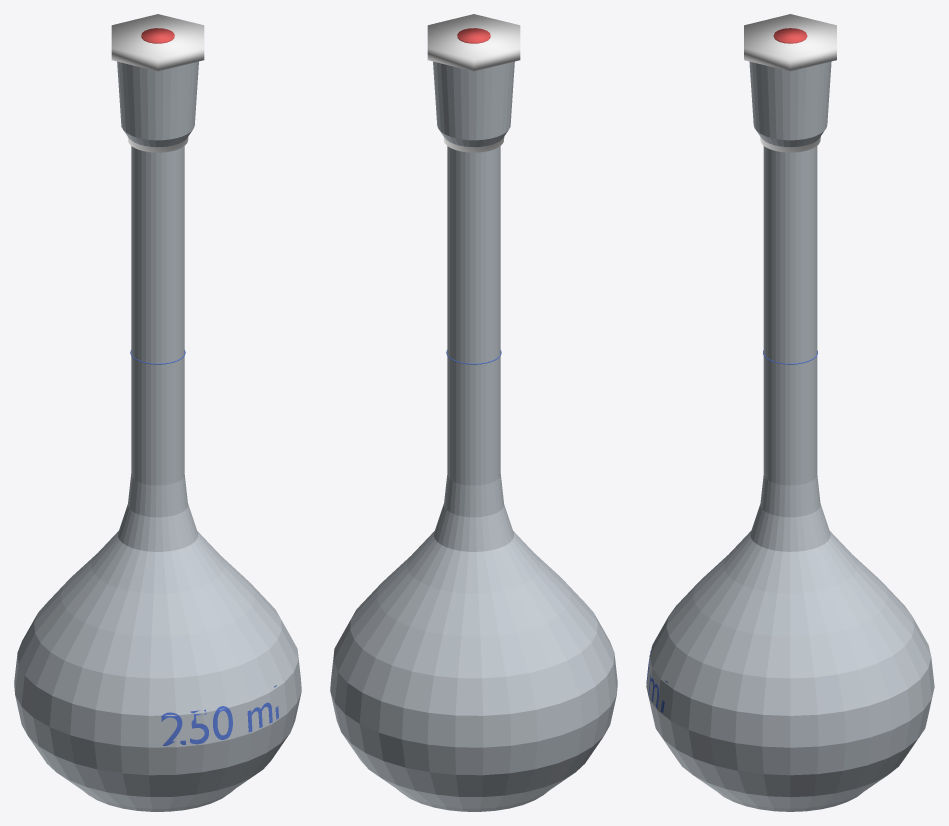
Rendered from matraz-aforado.glb.
3 renders of one model, left to right at view 1: azimuth 30°, elevation 25°; view 2: azimuth 150°, elevation 25°; view 3: azimuth 270°, elevation 25°, orthographic.
Parts seen in each view (by area): view 1: Cuerpo_Matraz, Tapon_Hexagonal, Texto_250ml; view 2: Cuerpo_Matraz, Tapon_Hexagonal; view 3: Cuerpo_Matraz, Tapon_Hexagonal.
Part boxes in pixels (bbox=[...]): Cuerpo_Matraz: bbox=[14, 61, 301, 811]; Tapon_Hexagonal: bbox=[111, 14, 204, 71]; Texto_250ml: bbox=[161, 685, 278, 745]; Cuerpo_Matraz: bbox=[330, 61, 617, 811]; Tapon_Hexagonal: bbox=[427, 14, 520, 71]; Cuerpo_Matraz: bbox=[646, 61, 934, 811]; Tapon_Hexagonal: bbox=[744, 14, 836, 71].
Bounding box in the file's own units: 0.86 × 2.45 × 0.86.
